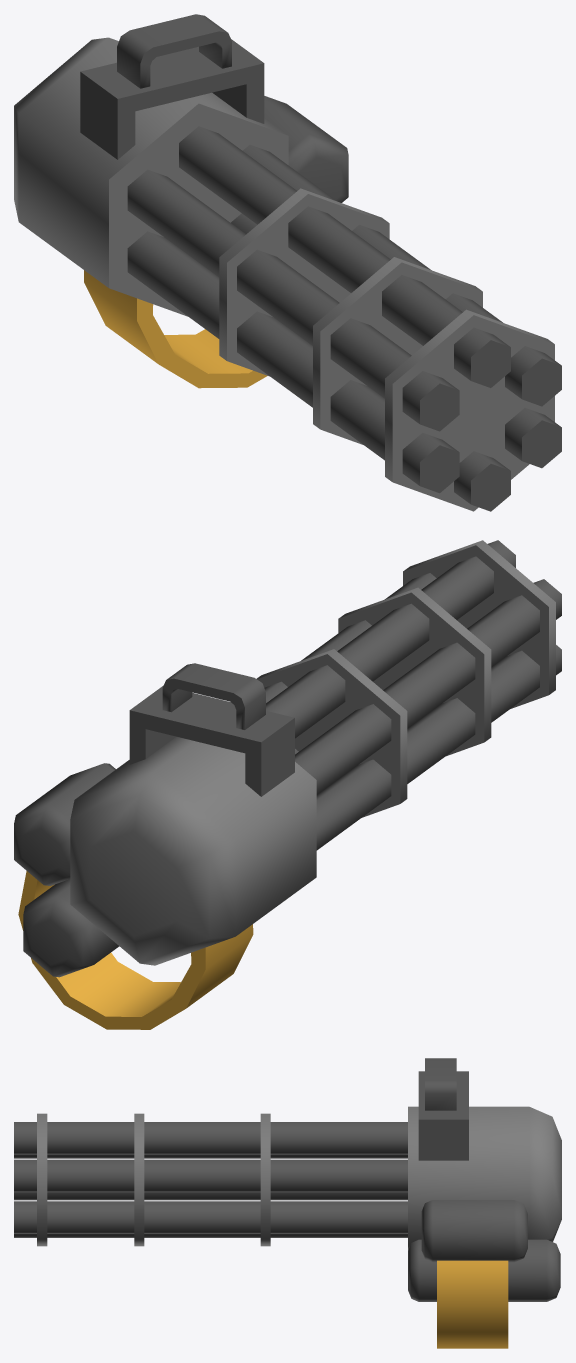
The model's file is COL_Minigun.fbx.
3 renders of one model, top to bottom at view 1: azimuth 30°, elevation 25°; view 2: azimuth 150°, elevation 25°; view 3: azimuth 270°, elevation 25°, orthographic. The views are drawn at different scales.
Parts seen in each view (by area): view 1: COL_Minigun; view 2: COL_Minigun; view 3: COL_Minigun.
Boxes of the visible parts, left/top/right/bottom form: COL_Minigun: left=14, top=14, right=561, bottom=511; COL_Minigun: left=14, top=540, right=561, bottom=1029; COL_Minigun: left=14, top=1058, right=561, bottom=1348.
Size of the model in its own units: 71.56 by 98.54 by 195.
